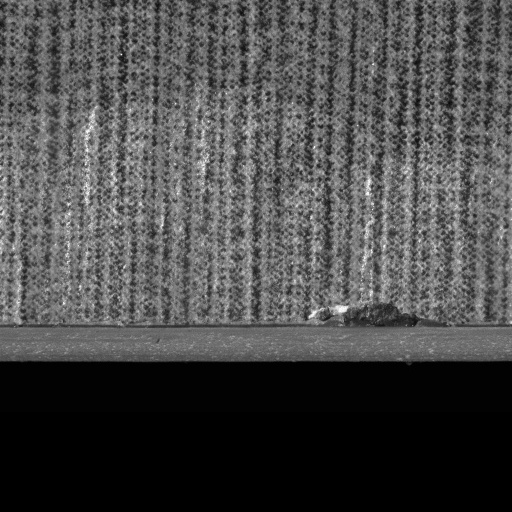bengque: (304, 300, 452, 331)
